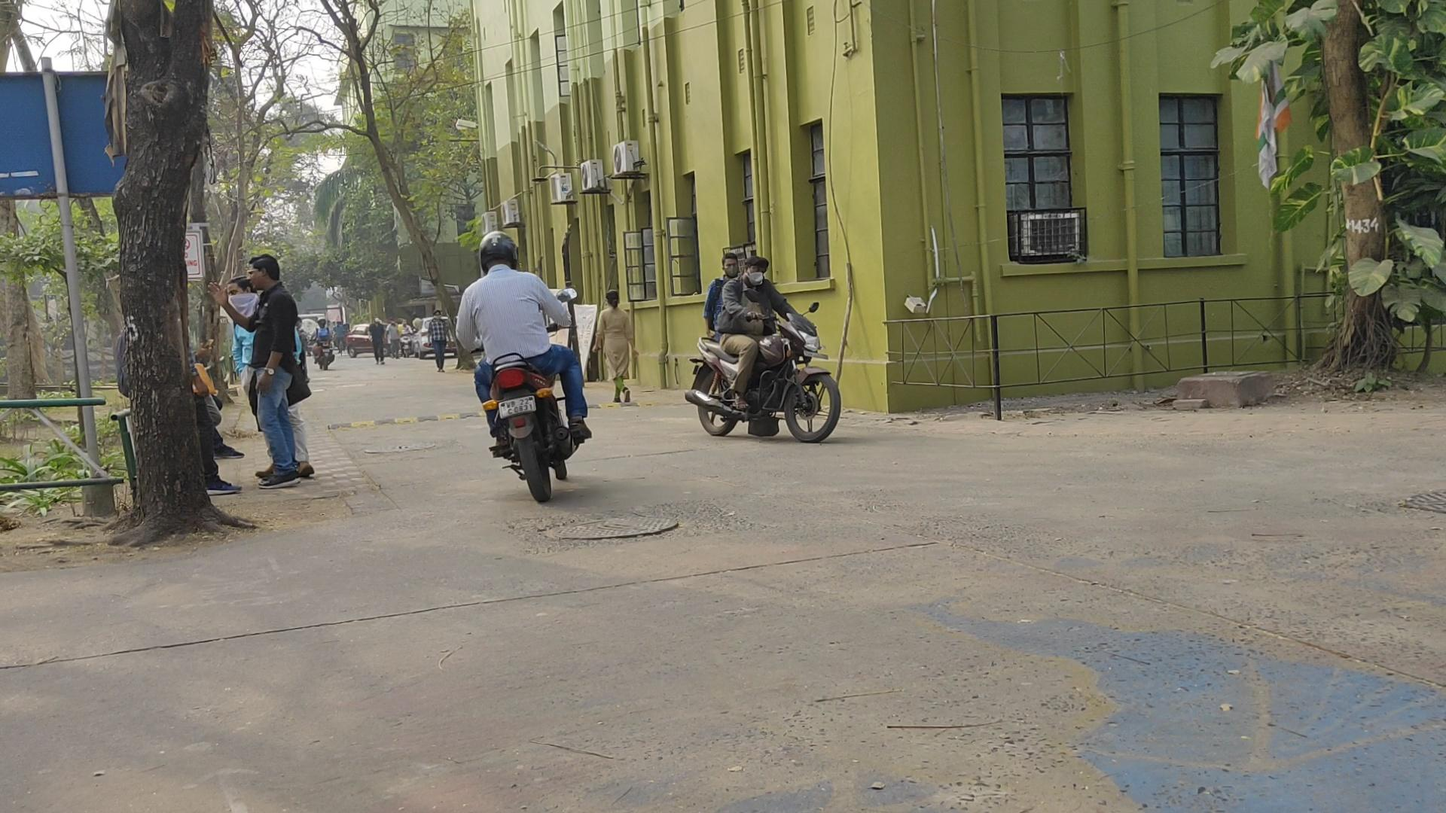bike: (456, 230, 592, 504), (685, 257, 841, 444), (310, 316, 335, 370), (396, 319, 416, 358)
car: (411, 316, 456, 359), (346, 323, 391, 358)
